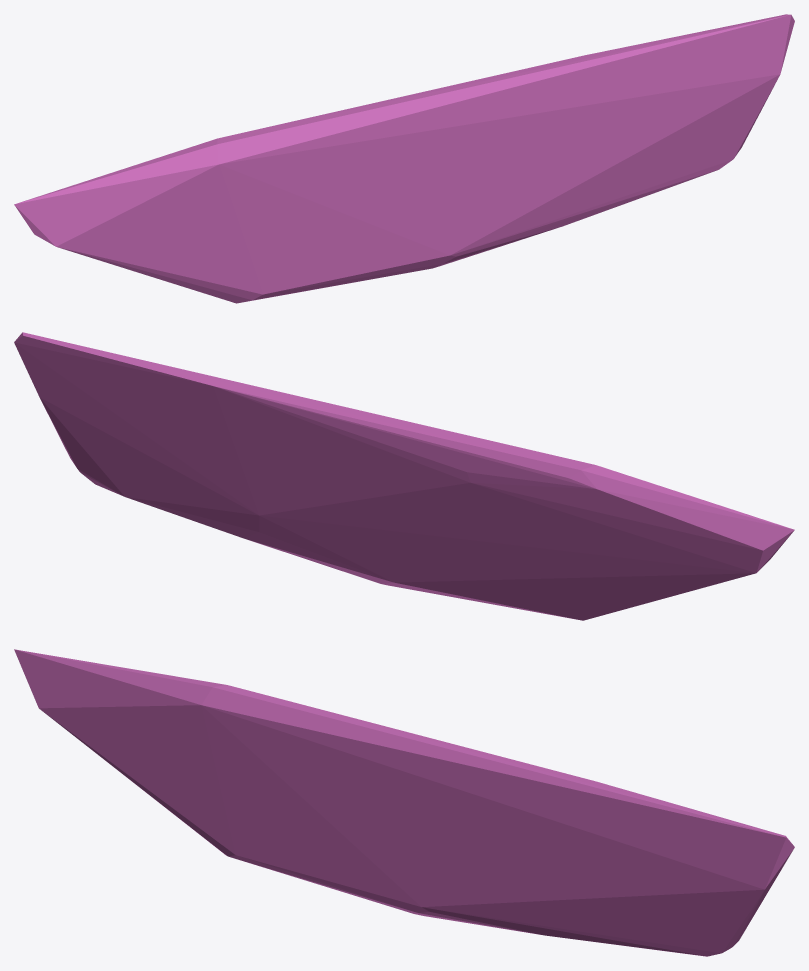
The model's file is handTool_pliers_groove_joint_8in_b01.glb.
The picture shows the model from 3 angles, top to bottom: view 1: azimuth 30°, elevation 25°; view 2: azimuth 150°, elevation 25°; view 3: azimuth 330°, elevation 25°; orthographic projection.
Parts seen in each view (by area): view 1: geometry_0; view 2: geometry_0; view 3: geometry_0.
Boxes of the visible parts, x1=… form: geometry_0: x1=14, y1=14, x2=794, y2=303; geometry_0: x1=14, y1=332, x2=794, y2=620; geometry_0: x1=14, y1=649, x2=794, y2=956.
Size of the model in its own units: 0.4786 by 0.1005 by 0.0265.
